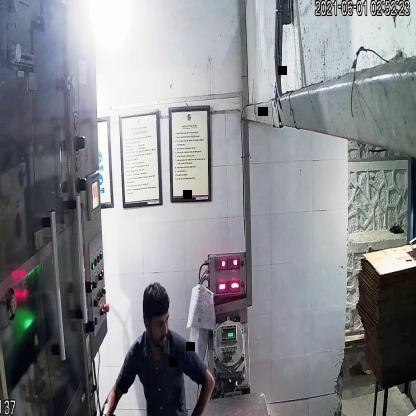no_goggles: (142, 310, 171, 331)
